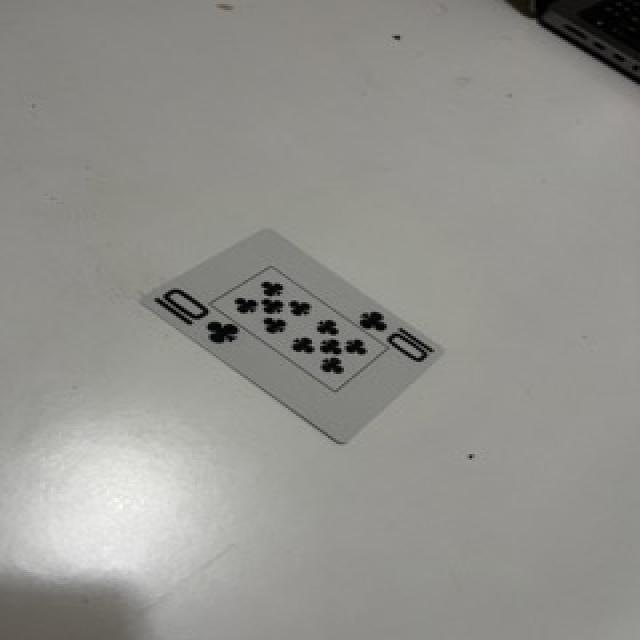10 of clubs: (143, 230, 442, 442)
